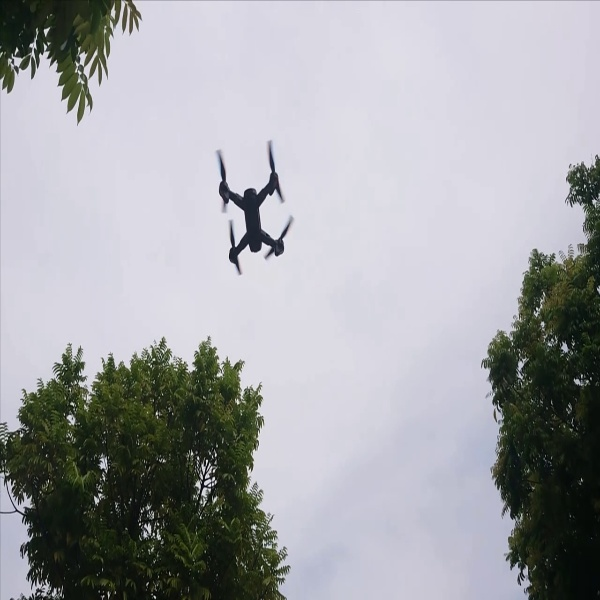drone: (202, 130, 308, 280)
